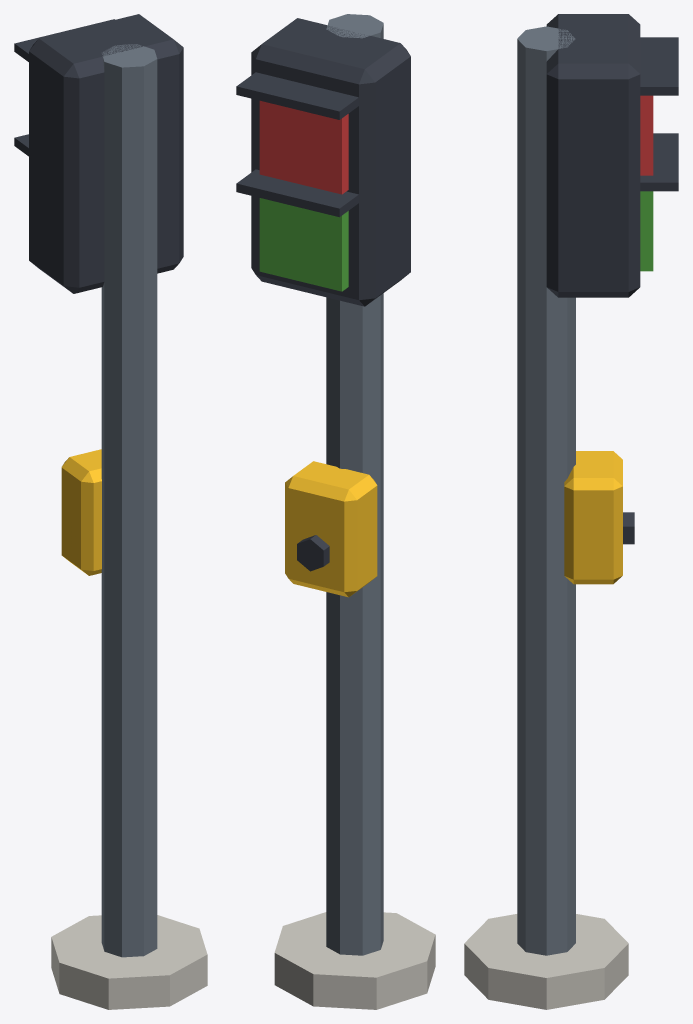
Rendered from kit-cidade-semaforo-pedestre.glb.
The picture shows the model from 3 angles, left to right: view 1: azimuth 30°, elevation 25°; view 2: azimuth 150°, elevation 25°; view 3: azimuth 270°, elevation 25°; orthographic projection. The views are drawn at different scales.
Visible parts, largest first — view 1: corpo; view 2: corpo; view 3: corpo.
Part boxes in pixels (box(x1,y1,x2,y2)): corpo: box(14, 14, 207, 1009); corpo: box(236, 14, 435, 1009); corpo: box(464, 14, 678, 1009).
Bounding box in the file's own units: 0.14 × 0.88 × 0.1825.
